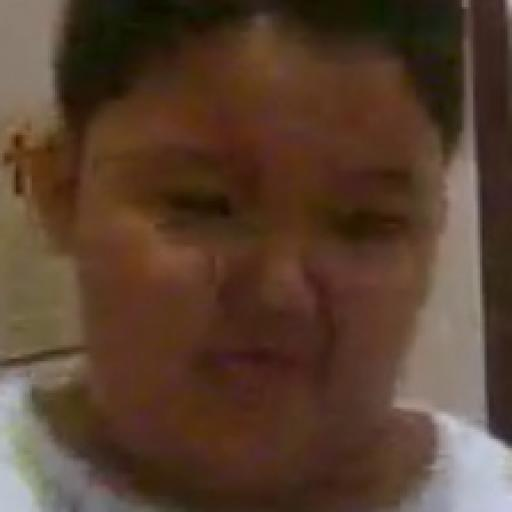Autism: (49, 64, 486, 490)
